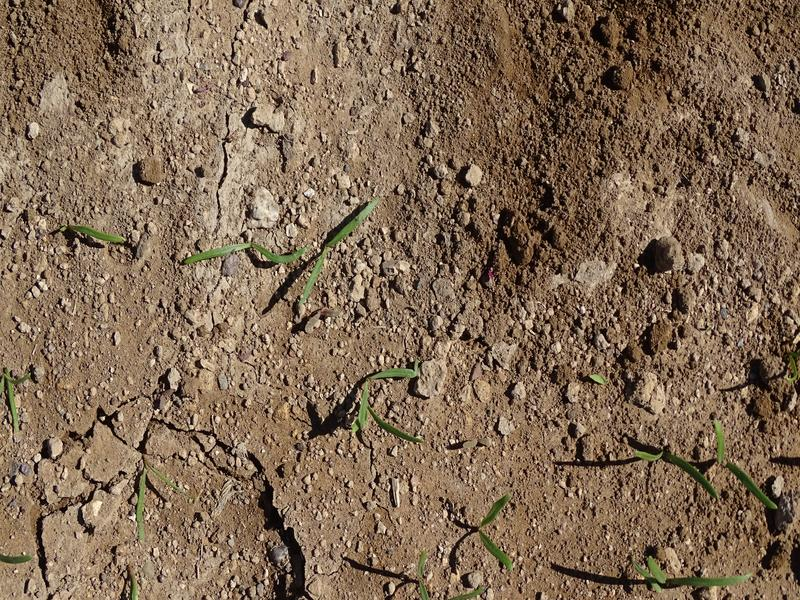Espinaca: (294, 196, 383, 305), (704, 413, 783, 511), (351, 366, 429, 444), (619, 551, 757, 592), (176, 235, 305, 273), (633, 446, 717, 503), (476, 491, 521, 569), (61, 223, 130, 249)
